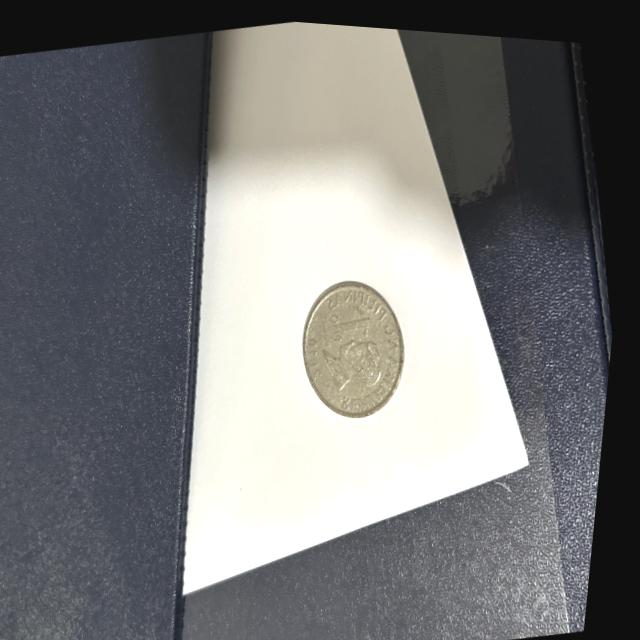1_Old_Front: (330, 295, 384, 346)
